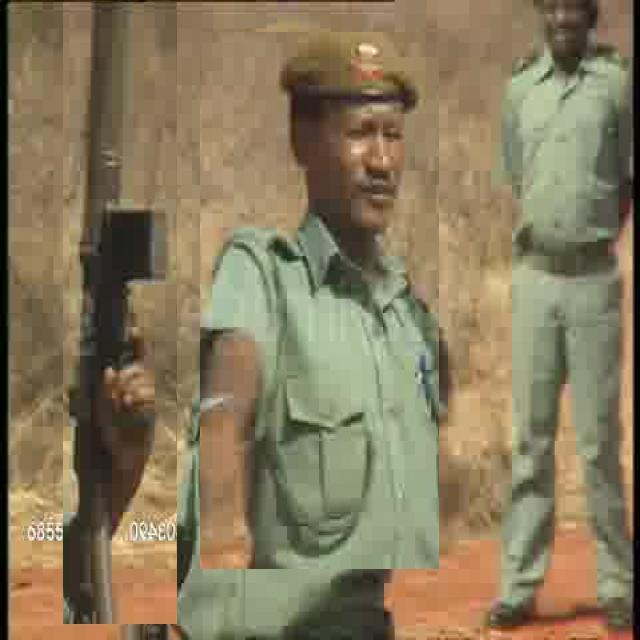poacher: (200, 32, 439, 569), (485, 2, 632, 616)
weapon: (63, 2, 177, 624)
